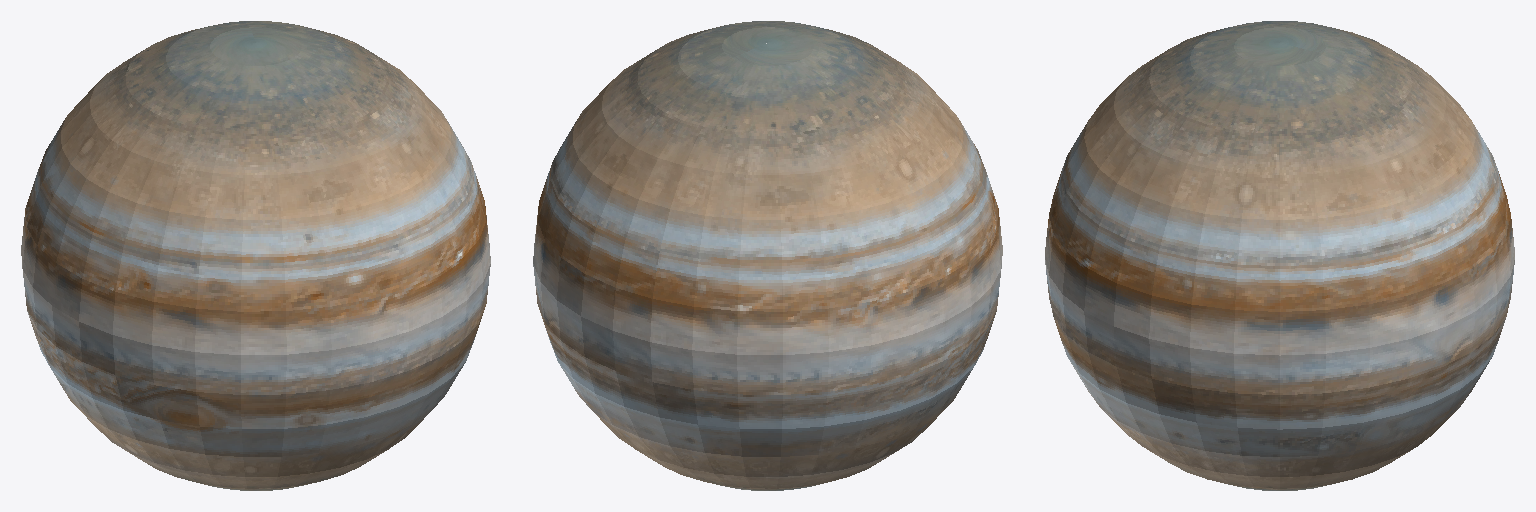
3 views of the same model, side by side, from view 1: azimuth 30°, elevation 25°; view 2: azimuth 150°, elevation 25°; view 3: azimuth 270°, elevation 25° (orthographic).
Visible parts, largest first — view 1: Sphere; view 2: Sphere; view 3: Sphere.
Part boxes in pixels (left/top/right/bottom): Sphere: left=21, top=21, right=490, bottom=490; Sphere: left=533, top=21, right=1002, bottom=490; Sphere: left=1045, top=21, right=1514, bottom=490.
Size of the model in its own units: 2 by 2 by 2.
1 materials, 1 textured.